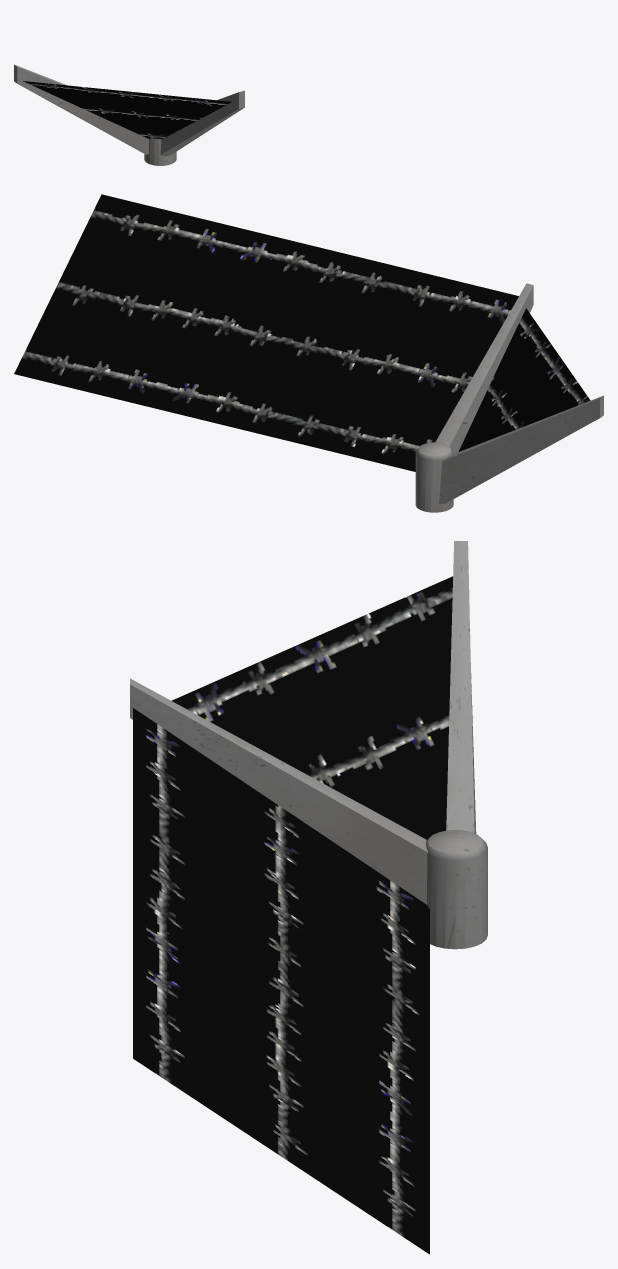
File: chain_barbwire_corner_short.fbx
3 renders of one model, top to bottom at view 1: azimuth 30°, elevation 25°; view 2: azimuth 150°, elevation 25°; view 3: azimuth 270°, elevation 25°, orthographic. The views are drawn at different scales.
Parts seen in each view (by area): view 1: chain_barbwire_corner_short; view 2: chain_barbwire_corner_short; view 3: chain_barbwire_corner_short.
Boxes of the visible parts, box(x1,y1,x2,y2) form: chain_barbwire_corner_short: box(14, 64, 244, 165); chain_barbwire_corner_short: box(14, 194, 603, 512); chain_barbwire_corner_short: box(130, 541, 487, 1254).
Size of the model in its own units: 1.39 by 0.3351 by 0.4268.
2 materials, 2 textured.
